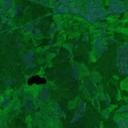alloviz: (26, 73, 47, 87)
